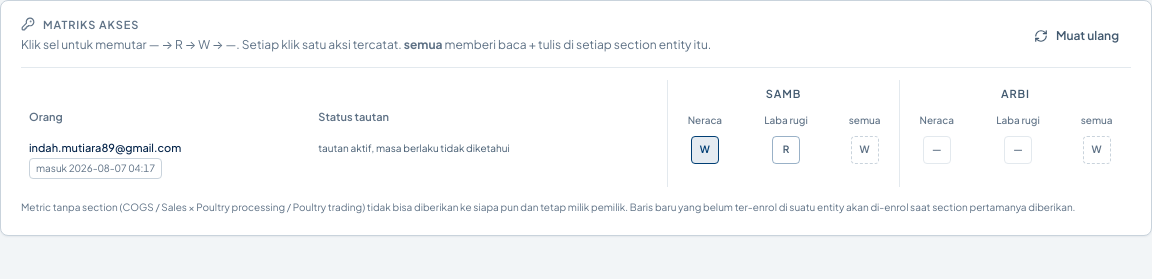
a click is one audited call, applied before the answer › W → — sends revoke-scope, and a refusal rolls the cell back and says why
Expected: the text "indah.mutiara89@gmail.com" is shown, [29,140,181,154]
Click the 1st button "W". click: (705, 150)
box: [691,136,719,164]
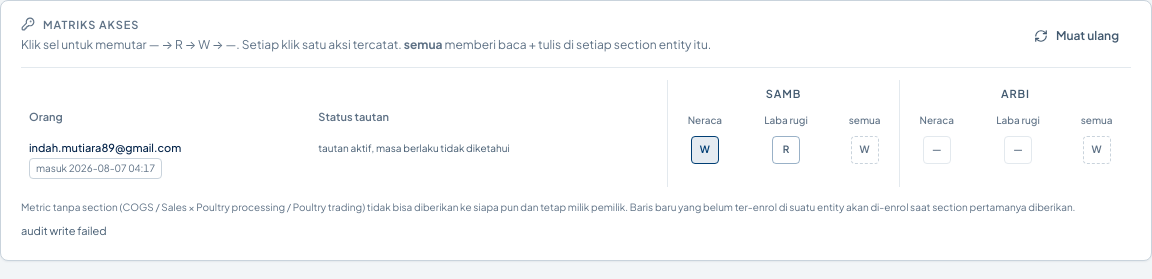
Now the text "audit write failed" is shown, box [21,224,107,237]
